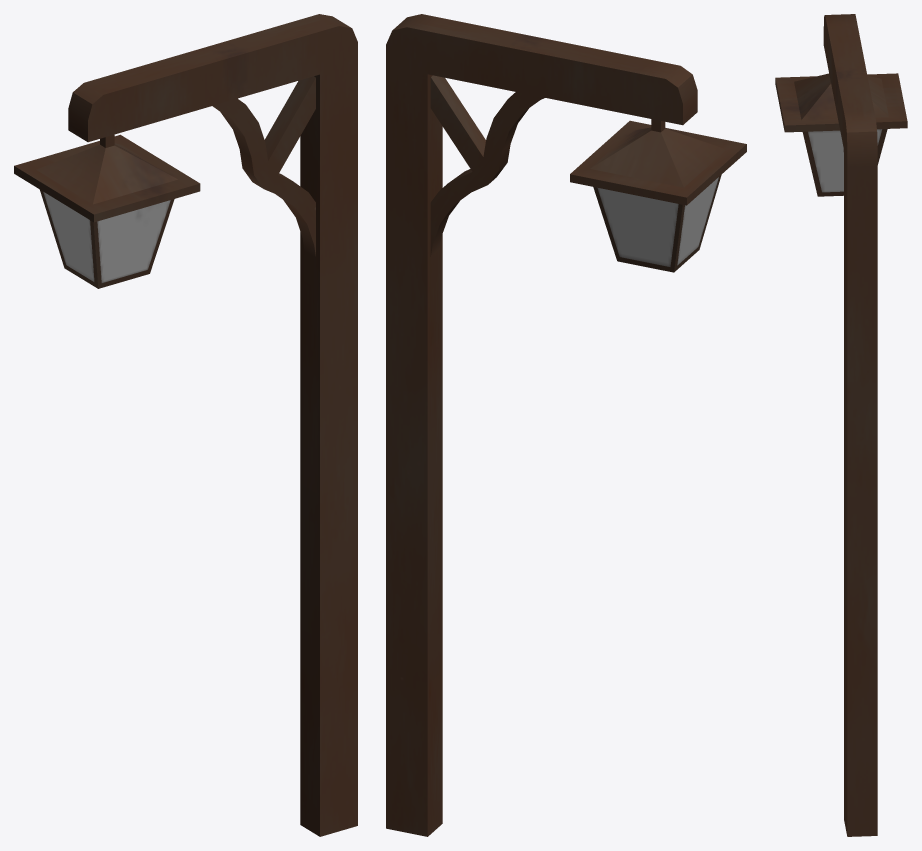
Rendered from Latern.fbx.
3 renders of one model, left to right at view 1: azimuth 30°, elevation 25°; view 2: azimuth 150°, elevation 25°; view 3: azimuth 270°, elevation 25°, orthographic. The views are drawn at different scales.
Visible parts, largest first — view 1: Tiang, Cube.001, Kaca lampu.001; view 2: Tiang, Cube.001, Kaca lampu.001; view 3: Tiang, Cube.001, Kaca lampu.001.
Boxes of the visible parts, x1,y1,x2,y2 form: Tiang: [68, 14, 357, 836]; Cube.001: [14, 134, 200, 288]; Kaca lampu.001: [43, 192, 170, 282]; Tiang: [386, 14, 697, 836]; Cube.001: [570, 119, 746, 272]; Kaca lampu.001: [597, 177, 718, 266]; Tiang: [823, 14, 877, 836]; Cube.001: [775, 73, 907, 196]; Kaca lampu.001: [808, 129, 882, 192].
Size of the model in its own units: 206 by 504 by 85.29.
